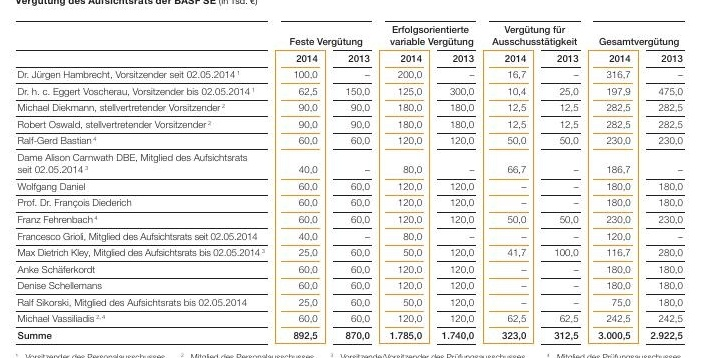table: (0, 0, 710, 358)
